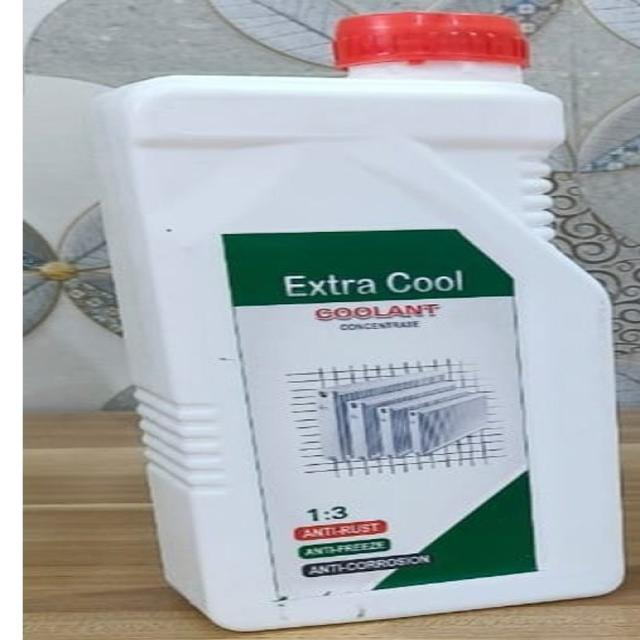coolant: (77, 10, 640, 640)
